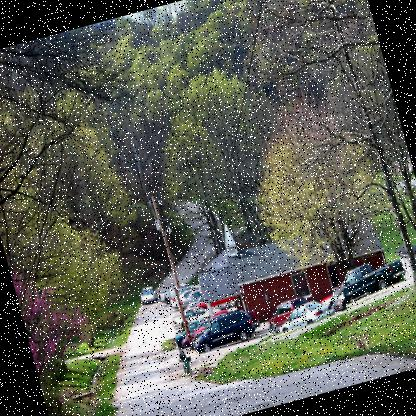Car: (164, 247, 350, 359), (190, 303, 256, 356), (138, 282, 159, 302)
